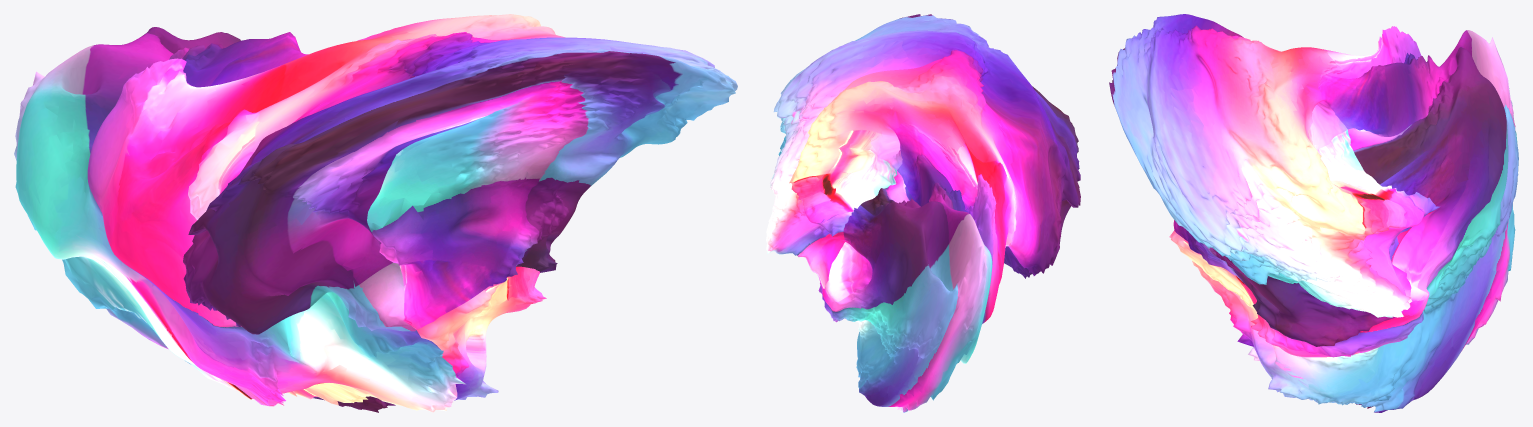
File: neon-organisms-3-Neon-1.glb
The picture shows the model from 3 angles, left to right: view 1: azimuth 30°, elevation 25°; view 2: azimuth 150°, elevation 25°; view 3: azimuth 270°, elevation 25°; orthographic projection. The views are drawn at different scales.
Parts seen in each view (by area): view 1: 01; view 2: 01; view 3: 01.
Part boxes in pixels (x1,y1,x2,y2): 01: (14,14,737,412); 01: (766,14,1080,412); 01: (1109,14,1518,412).
Bounding box in the file's own units: 27.63 × 23.73 × 23.77.
Materials: 1 (1 with a texture image).
